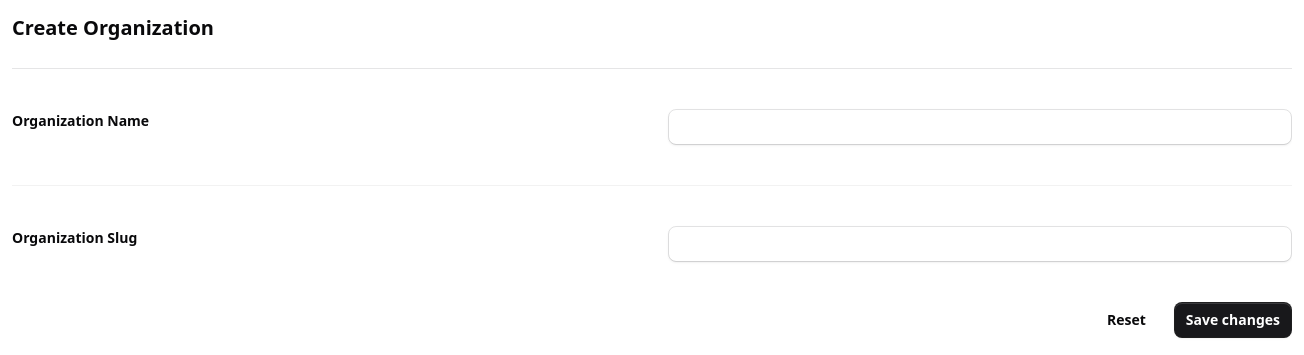
Test: CreateOrg Component › automatically generates a slug from the name
Type "My New Org" into the field named "organization name" at (980,127), box [668,109,1292,145]
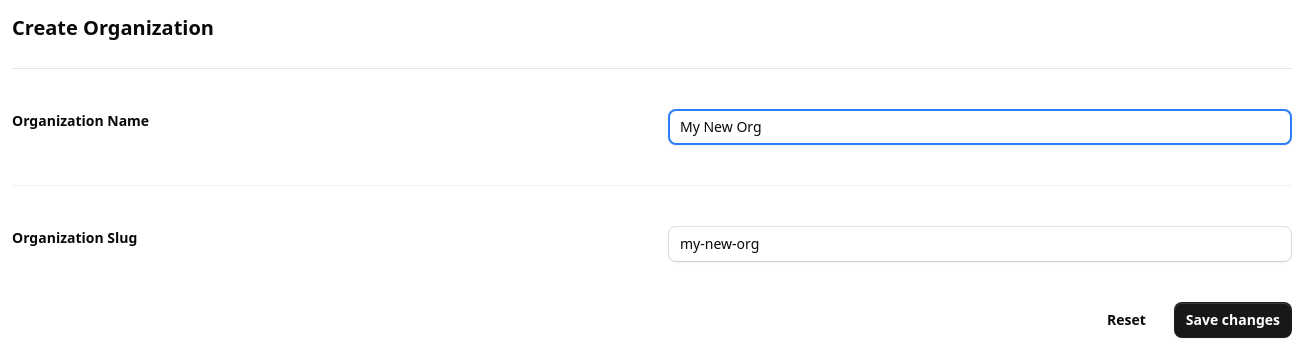
Now the field named "organization slug" holds "my-new-org", box [668,226,1292,262]
